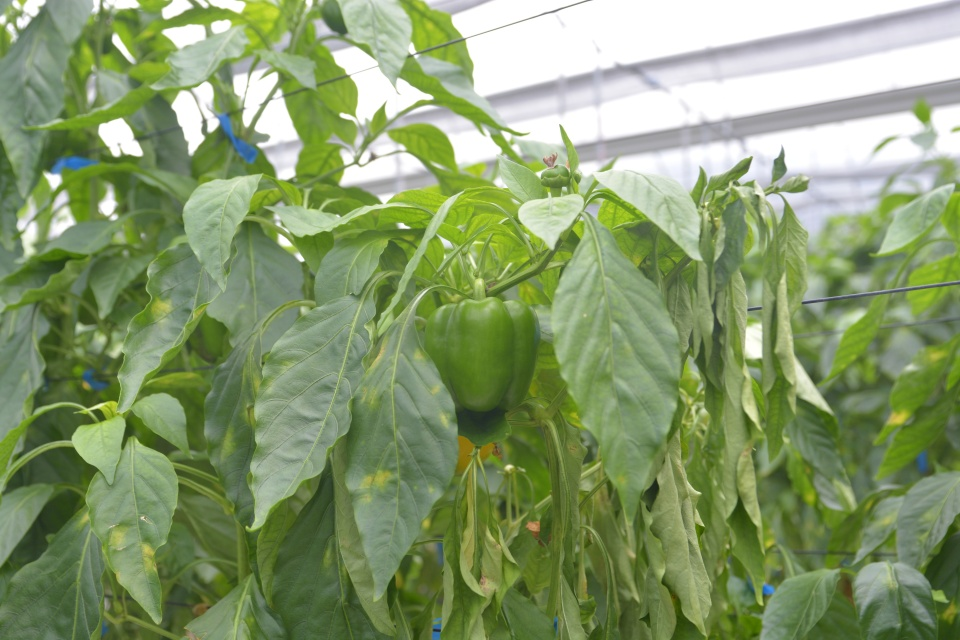fruit: (421, 294, 543, 416), (452, 433, 496, 478)
immature: (537, 151, 572, 188)
